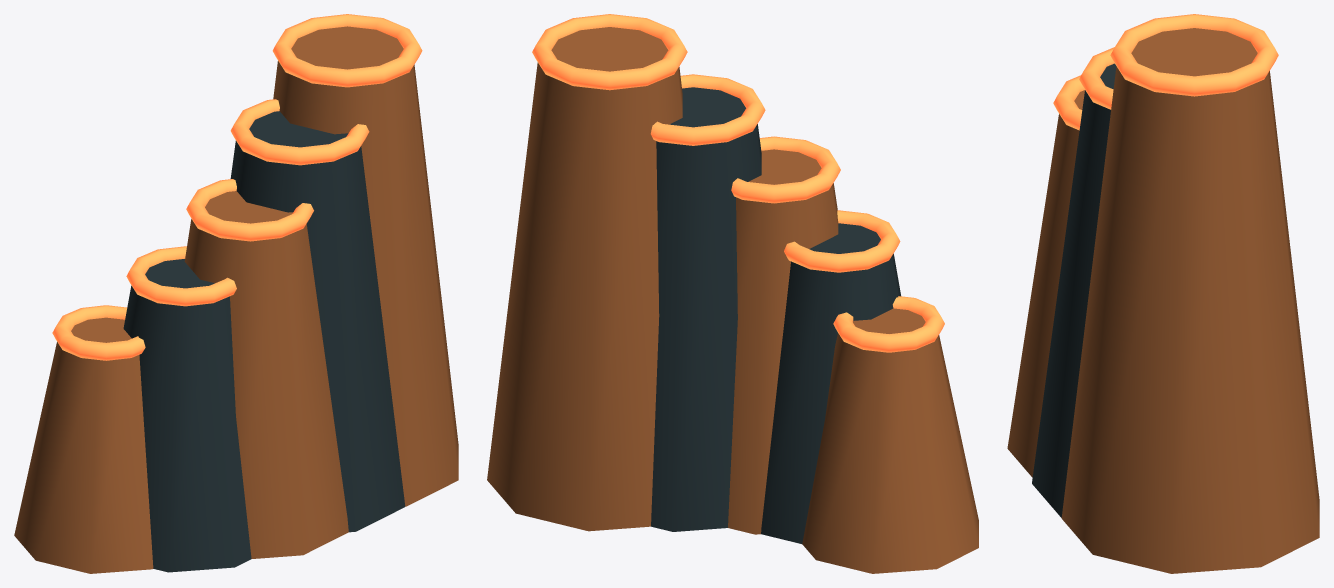
File: vent.glb
3 renders of one model, left to right at view 1: azimuth 30°, elevation 25°; view 2: azimuth 150°, elevation 25°; view 3: azimuth 270°, elevation 25°, orthographic. The views are drawn at different scales.
Visible parts, largest first — view 1: chimney (×5), vent_opening (×5); view 2: chimney (×5), vent_opening (×5); view 3: chimney (×3), vent_opening (×3).
Part boxes in pixels (box(x1,y1,x2,y2)): chimney (×5): box(14, 26, 458, 573); vent_opening (×5): box(52, 14, 422, 360); chimney (×5): box(487, 27, 978, 573); vent_opening (×5): box(532, 14, 944, 352); chimney (×3): box(1007, 28, 1319, 573); vent_opening (×3): box(1053, 14, 1278, 130).
Bounding box in the file's own units: 1.91 × 1.76 × 1.06.
